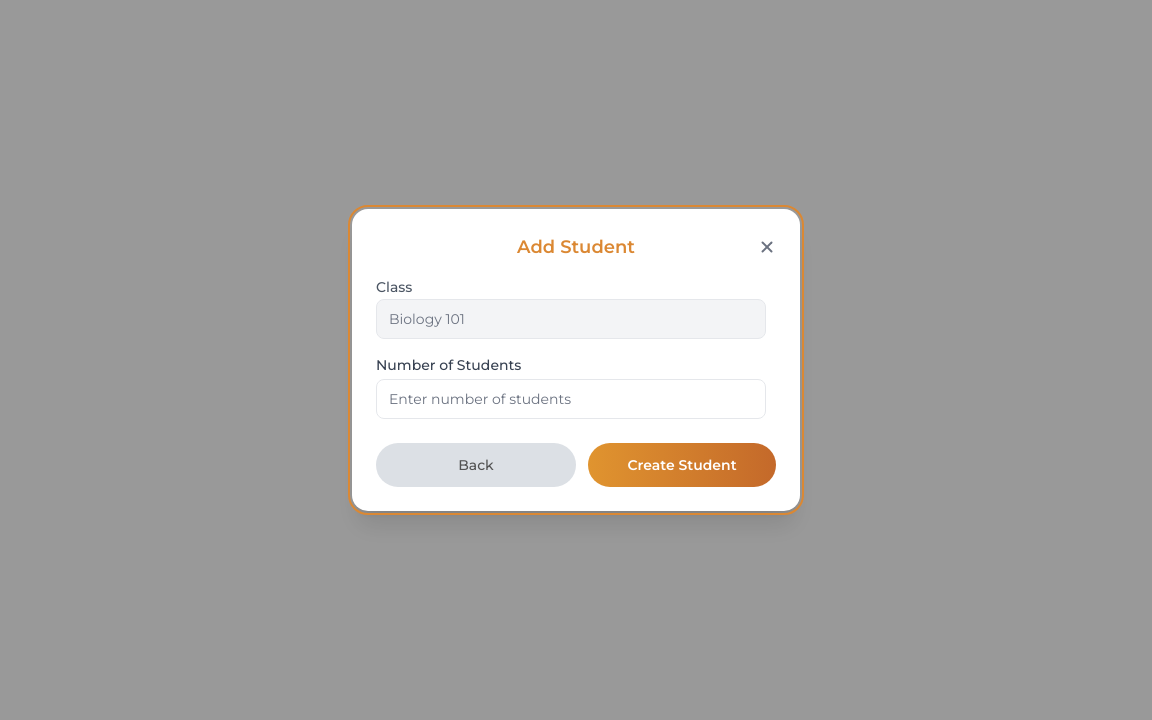
Test case: StudentModal – Add Mode › shows validation error when student count is empty
What coordinates should you click on to do the following:
click the button "Create Student"
I would click on:
 (682, 465)
Its box is [588,443,776,487].
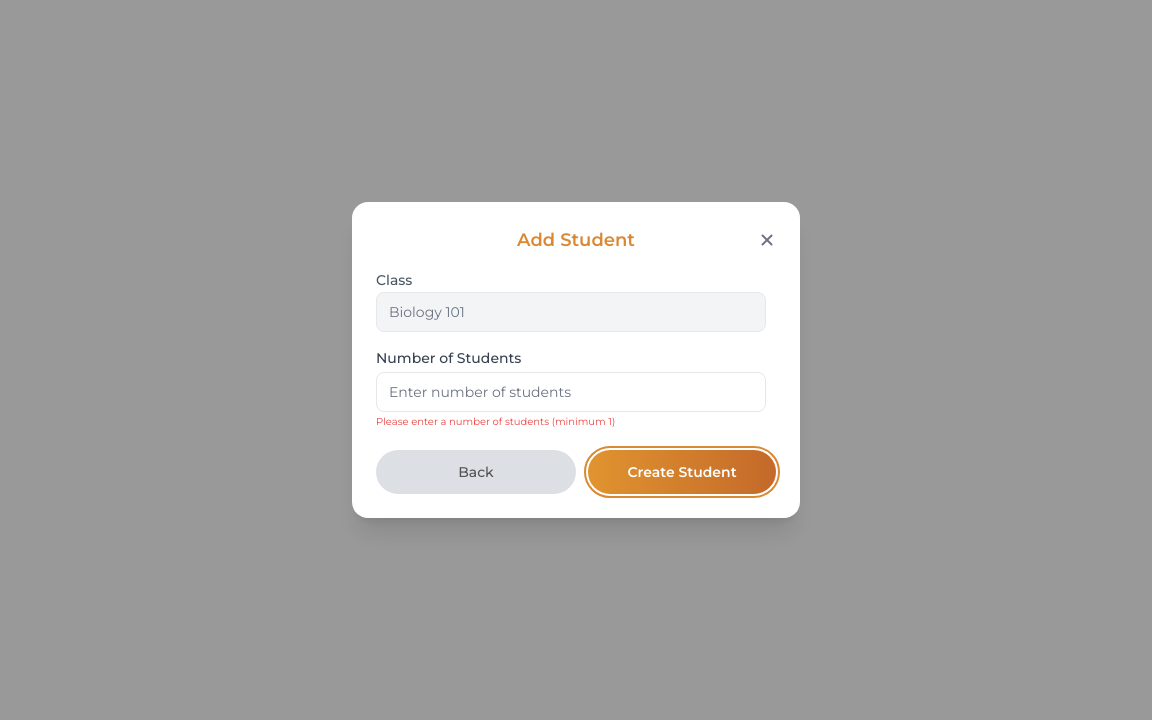
Now the text "Please enter a number of students (minimum 1)" is shown, box [376,415,615,428]
